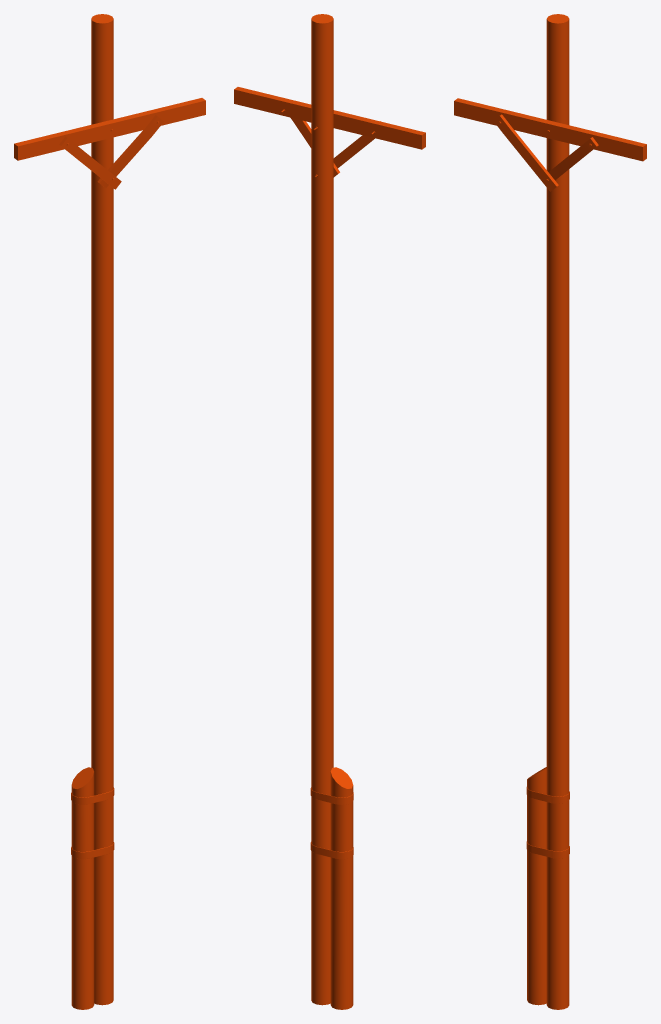
Rendered from Support_002.FBX.
3 views of the same model, side by side, from view 1: azimuth 30°, elevation 25°; view 2: azimuth 150°, elevation 25°; view 3: azimuth 330°, elevation 25° (orthographic).
Visible parts, largest first — view 1: Support_002, Cross_002, Support_002_bandage; view 2: Support_002, Cross_002, Support_002_bandage; view 3: Support_002, Cross_002, Support_002_bandage.
Part boxes in pixels (x1,y1,x2,y2): Support_002: (71,14,113,1009); Cross_002: (14,98,205,189); Support_002_bandage: (71,787,114,859); Support_002: (311,14,353,1009); Cross_002: (234,87,425,177); Support_002_bandage: (310,787,353,859); Support_002: (527,14,569,1009); Cross_002: (454,98,646,191); Support_002_bandage: (526,787,569,858).
Size of the model in its own units: 193 by 961 by 36.44.
